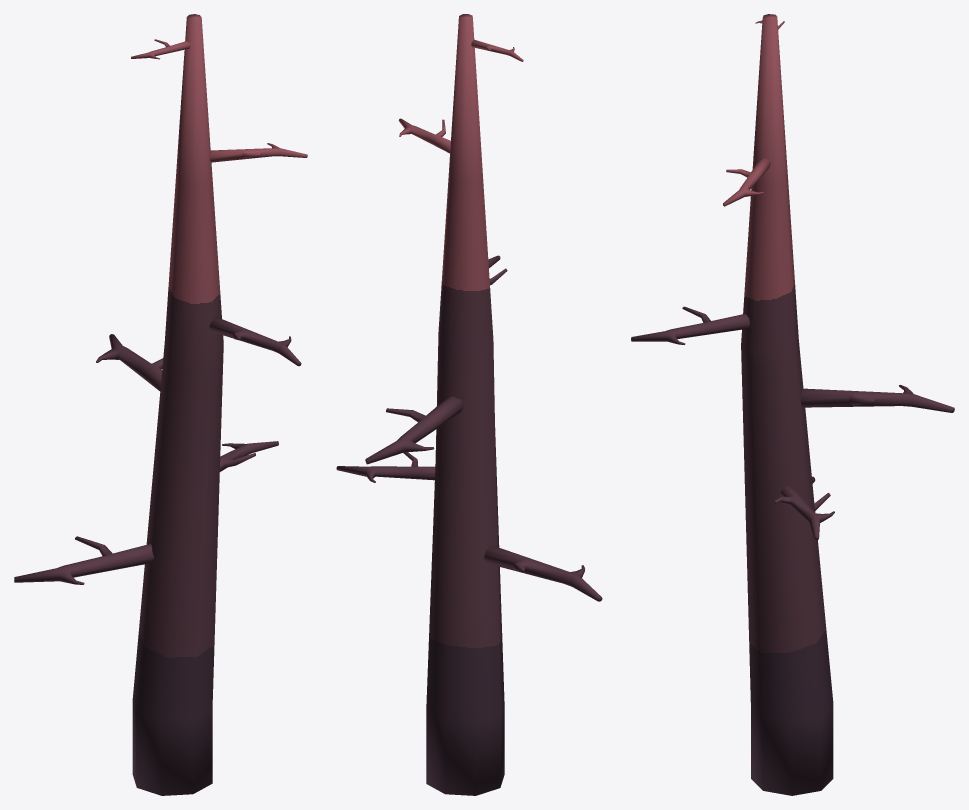
Rendered from Tree_Dead.fbx.
3 views of the same model, side by side, from view 1: azimuth 30°, elevation 25°; view 2: azimuth 150°, elevation 25°; view 3: azimuth 270°, elevation 25° (orthographic). The views are drawn at different scales.
Visible parts, largest first — view 1: Tree07; view 2: Tree07; view 3: Tree07.
Boxes of the visible parts, bbox=[...] form: Tree07: bbox=[14, 14, 307, 795]; Tree07: bbox=[336, 14, 602, 795]; Tree07: bbox=[631, 14, 954, 795].
Size of the model in its own units: 215 by 589 by 225.
Materials: 1 (1 with a texture image).
